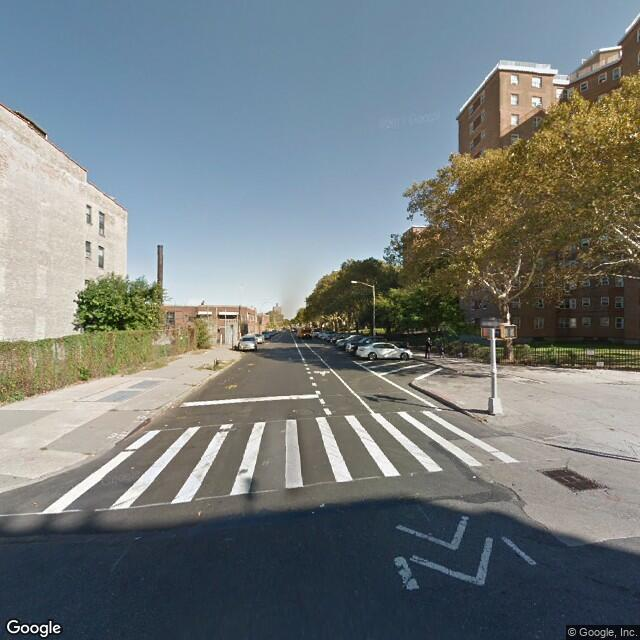litter: (195, 510, 203, 516), (472, 473, 477, 481), (321, 503, 327, 509)
